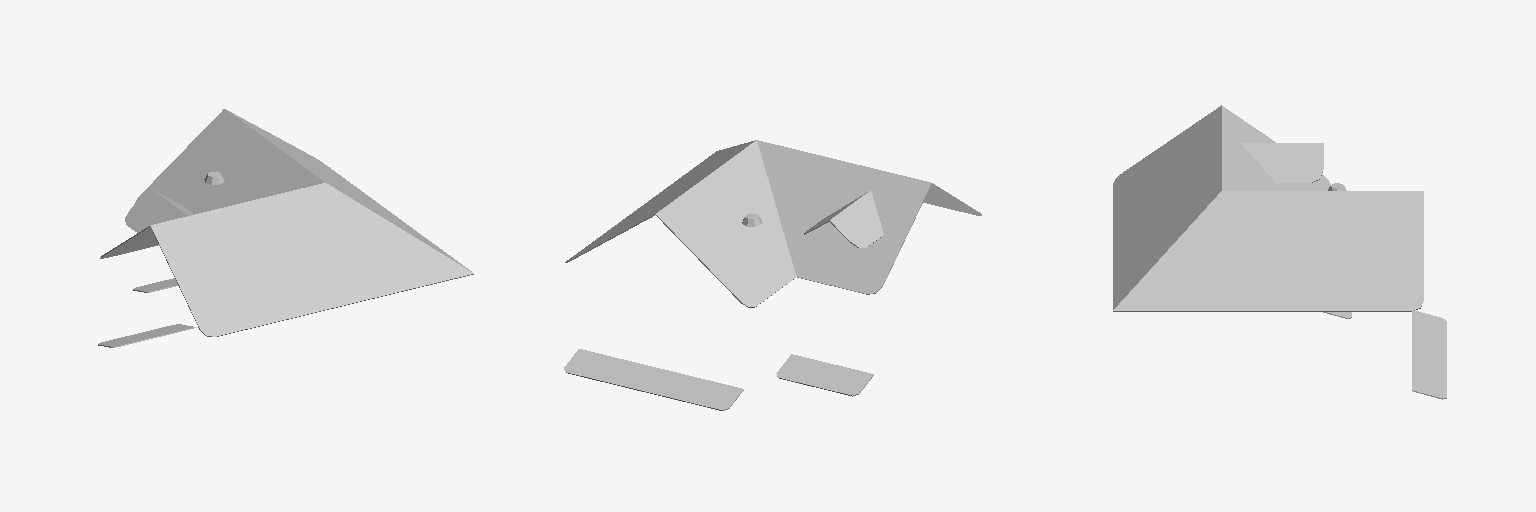
The model's file is building-type-f_roof.obj.
The picture shows the model from 3 angles: view 1: azimuth 30°, elevation 25°; view 2: azimuth 150°, elevation 25°; view 3: azimuth 270°, elevation 25°; orthographic projection.
Parts seen in each view (by area): view 1: building-type-f.001; view 2: building-type-f.001; view 3: building-type-f.001.
Boxes of the visible parts, <box> form: building-type-f.001: <box>98,109,473,347</box>; building-type-f.001: <box>564,140,981,410</box>; building-type-f.001: <box>1113,105,1446,399</box>.
Bounding box in the file's own units: 1.31 × 0.7867 × 1.41.